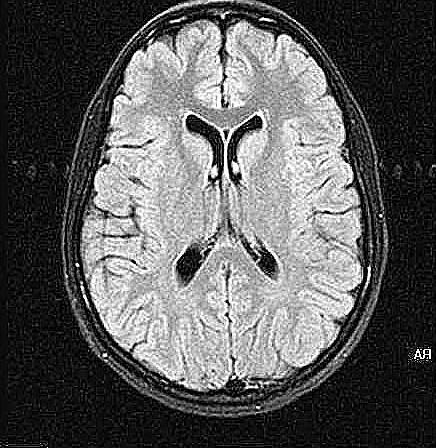Normal_Brain: (1, 1, 436, 448)
